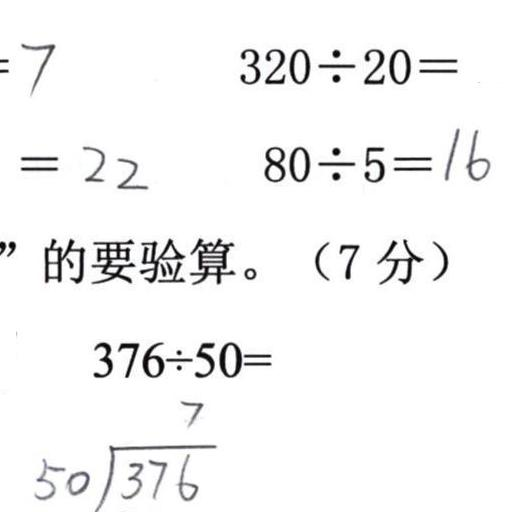ans: (77, 140, 145, 190), (438, 122, 490, 182), (16, 35, 56, 94)
